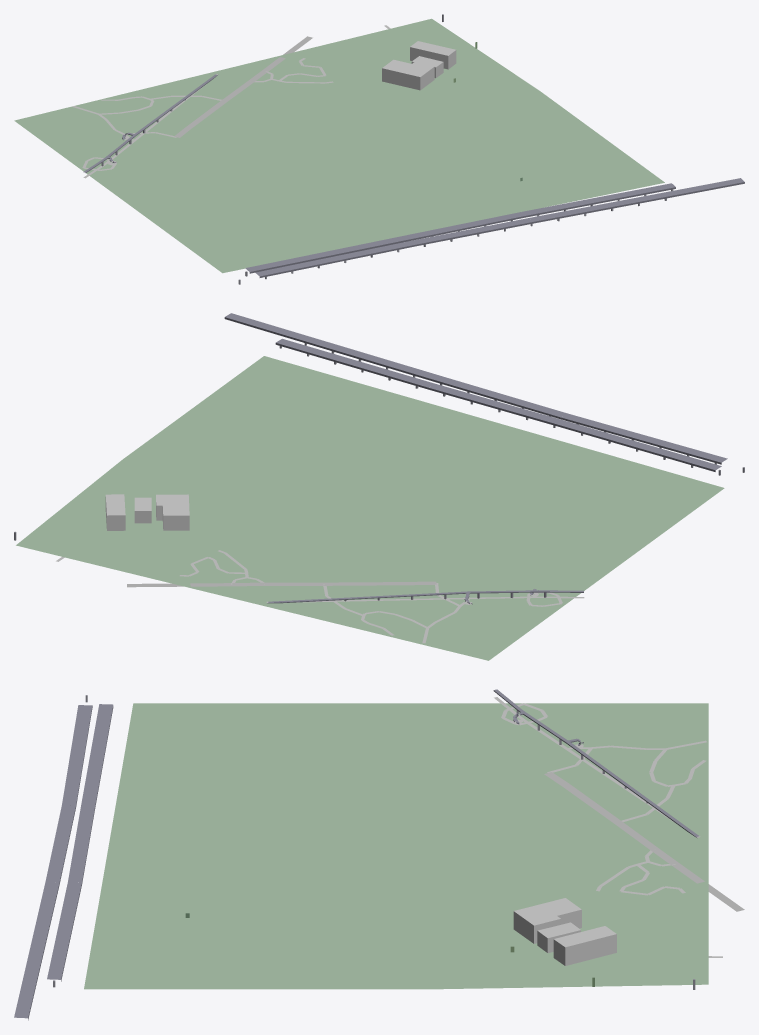
The picture shows the model from 3 angles, top to bottom: view 1: azimuth 30°, elevation 25°; view 2: azimuth 150°, elevation 25°; view 3: azimuth 270°, elevation 25°; orthographic projection. The views are drawn at different scales.
Bounding box in the file's own units: 574 × 16.03 × 540.
